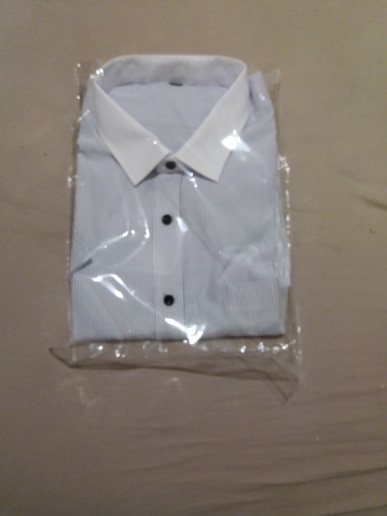shirts: (74, 75, 281, 336)
